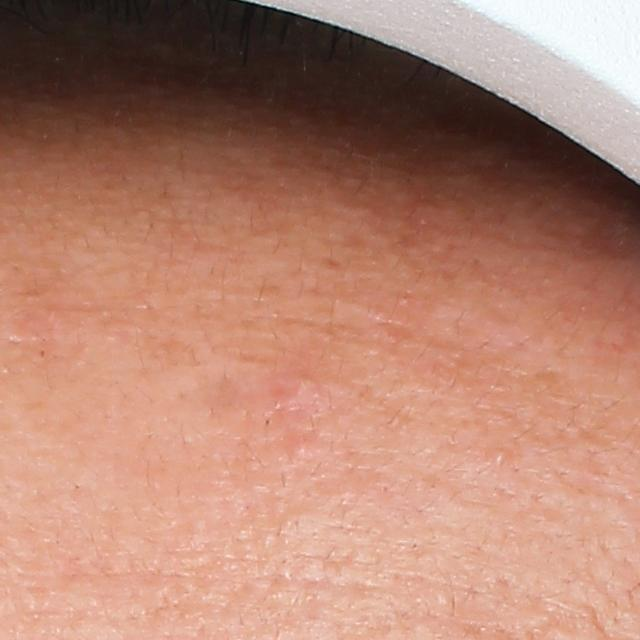comedo: (270, 370, 327, 413), (284, 431, 325, 461)
